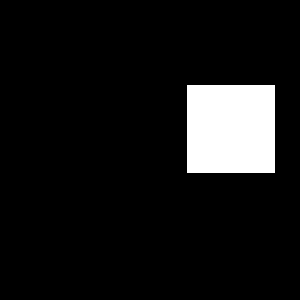circle: (187, 85, 275, 173)
